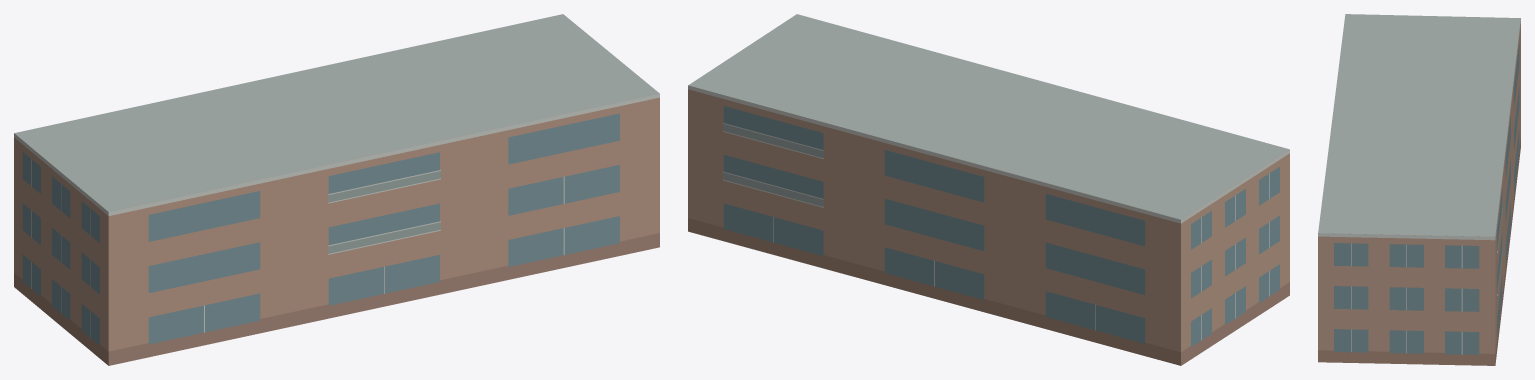
The model's file is survey-upis-32995183.glb.
3 views of the same model, side by side, from view 1: azimuth 30°, elevation 25°; view 2: azimuth 150°, elevation 25°; view 3: azimuth 270°, elevation 25° (orthographic). The views are drawn at different scales.
Visible parts, largest first — view 1: survey-upis-32995183.tmp; view 2: survey-upis-32995183.tmp; view 3: survey-upis-32995183.tmp.
Part boxes in pixels (box(x1,y1,x2,y2)): survey-upis-32995183.tmp: box(14, 14, 659, 365); survey-upis-32995183.tmp: box(688, 14, 1289, 365); survey-upis-32995183.tmp: box(1318, 14, 1520, 365).
Size of the model in its own units: 33.87 by 9.15 by 13.04.
